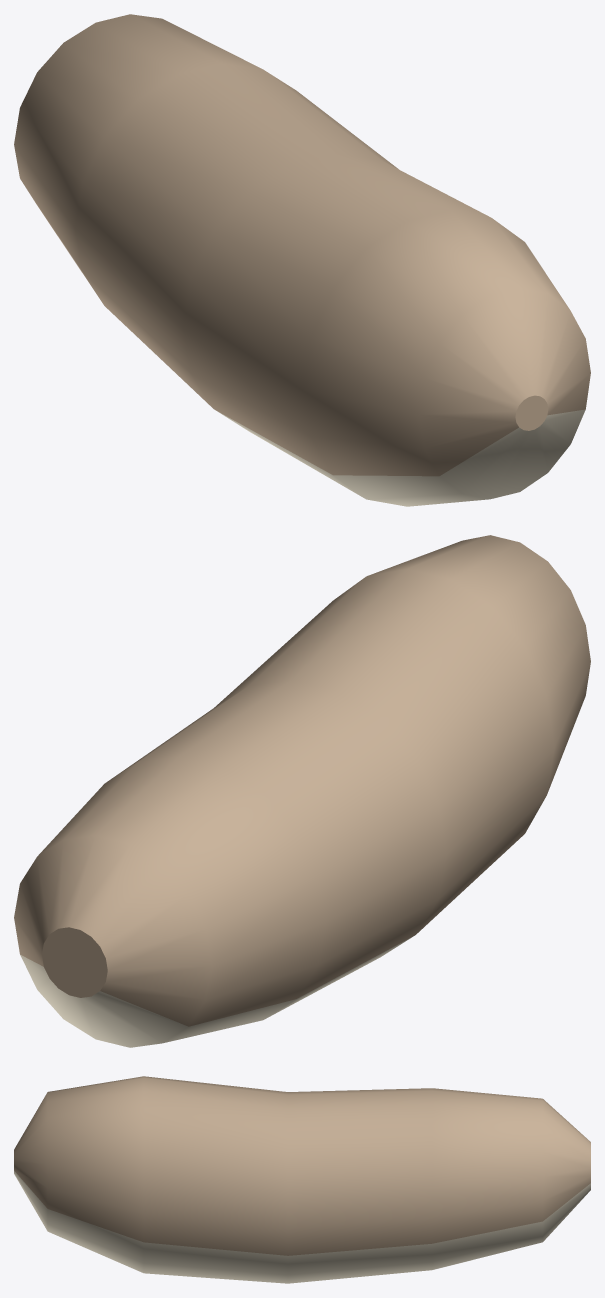
Rendered from cr_body_a.fbx.
3 renders of one model, top to bottom at view 1: azimuth 30°, elevation 25°; view 2: azimuth 150°, elevation 25°; view 3: azimuth 270°, elevation 25°, orthographic. The views are drawn at different scales.
Visible parts, largest first — view 1: Body; view 2: Body; view 3: Body.
Part boxes in pixels (box(x1,y1,x2,y2)): Body: box(14, 14, 590, 506); Body: box(14, 535, 590, 1047); Body: box(14, 1076, 590, 1283).
Bounding box in the file's own units: 0.4 × 0.4338 × 1.2.
